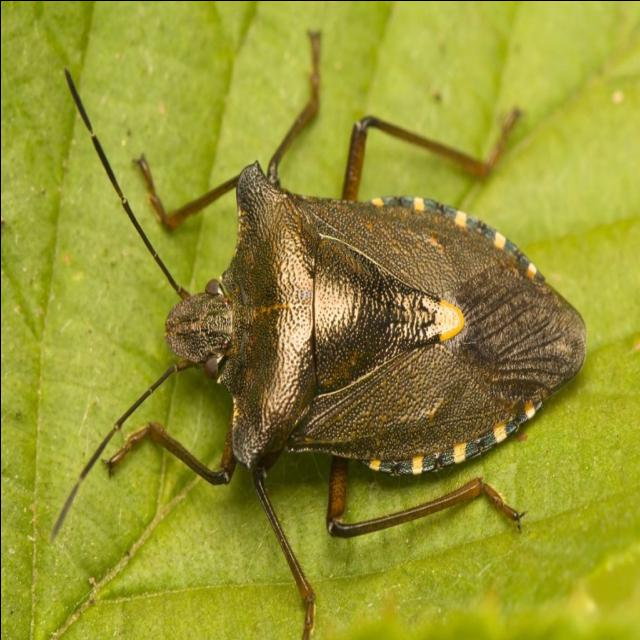stink_bug: (36, 25, 589, 640)
